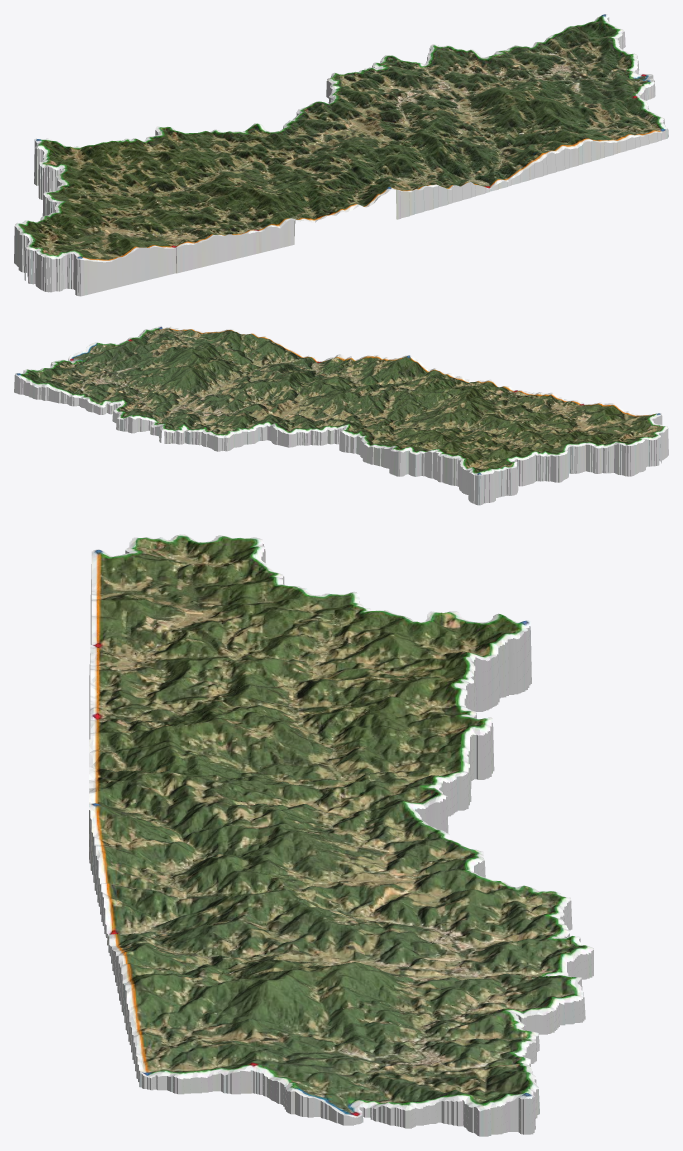
The picture shows the model from 3 angles, top to bottom: view 1: azimuth 30°, elevation 25°; view 2: azimuth 150°, elevation 25°; view 3: azimuth 270°, elevation 25°; orthographic projection. The views are drawn at different scales.
Size of the model in its own units: 1 by 0.0534 by 0.3897.
1 material, 1 textured.
